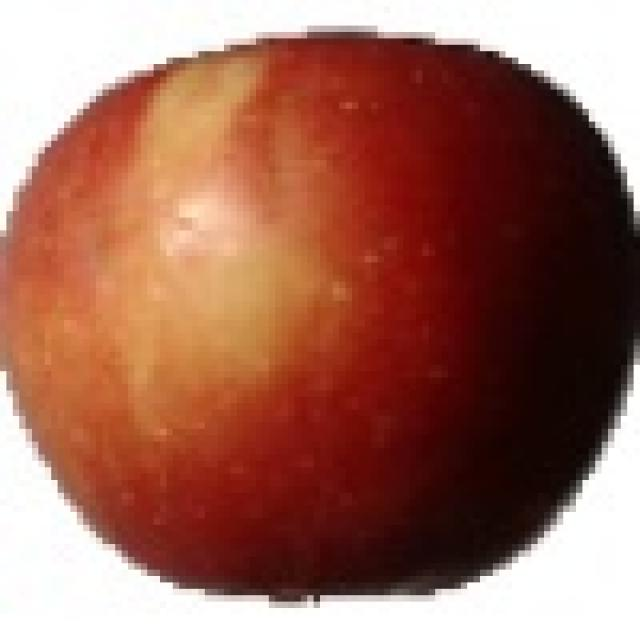apple: (0, 26, 634, 608)
